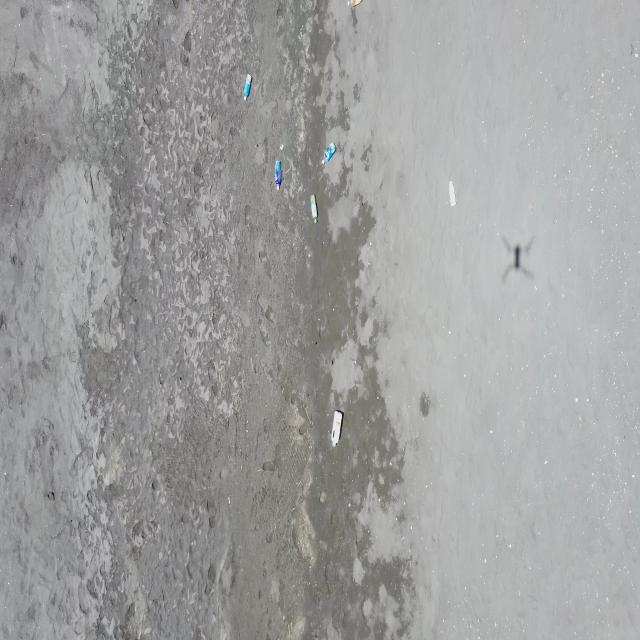plastic-bottle: (331, 410, 344, 448), (321, 142, 337, 166), (274, 160, 284, 190), (310, 192, 319, 224), (242, 73, 252, 100), (448, 182, 457, 208), (350, 0, 364, 10)
